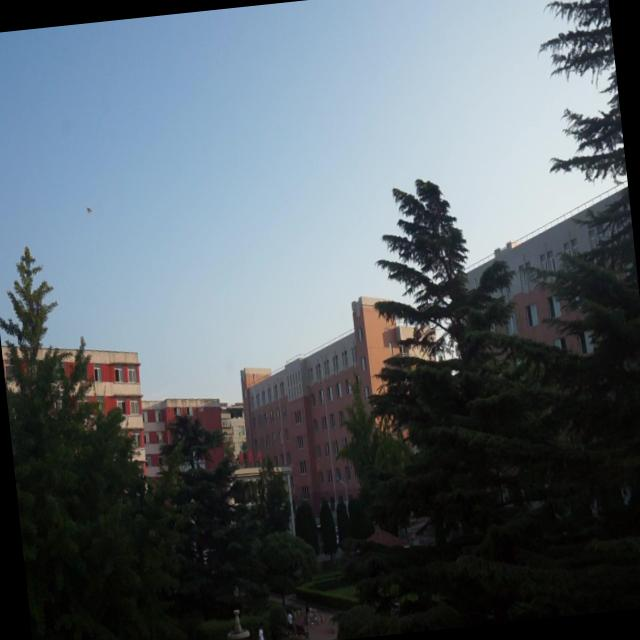drone: (83, 200, 96, 218)
